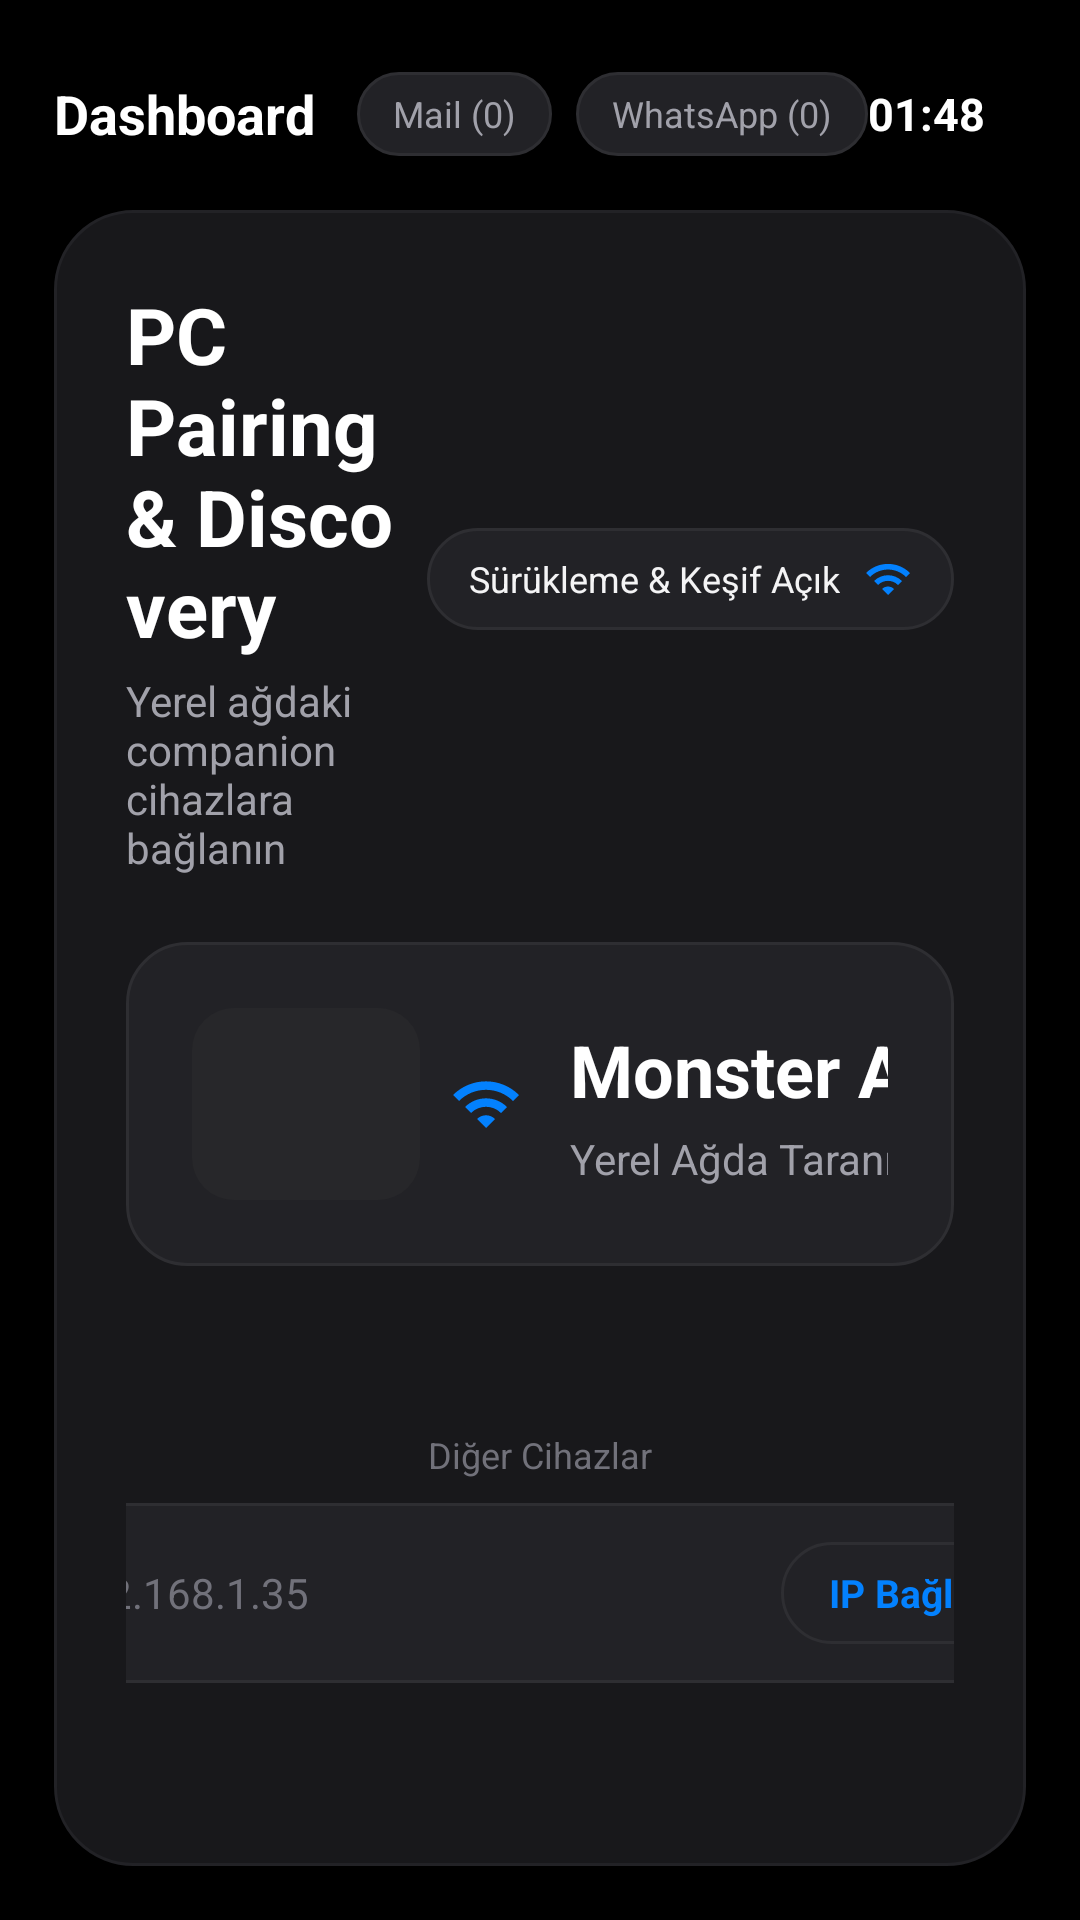

Icon bounding boxes for this 1080 x 1920 phone screenshot, format {"left": x1, "top": y1, "right": x2, "bottom": y2}:
wifi: {"left": 866, "top": 564, "right": 910, "bottom": 595}, {"left": 453, "top": 1081, "right": 519, "bottom": 1128}
